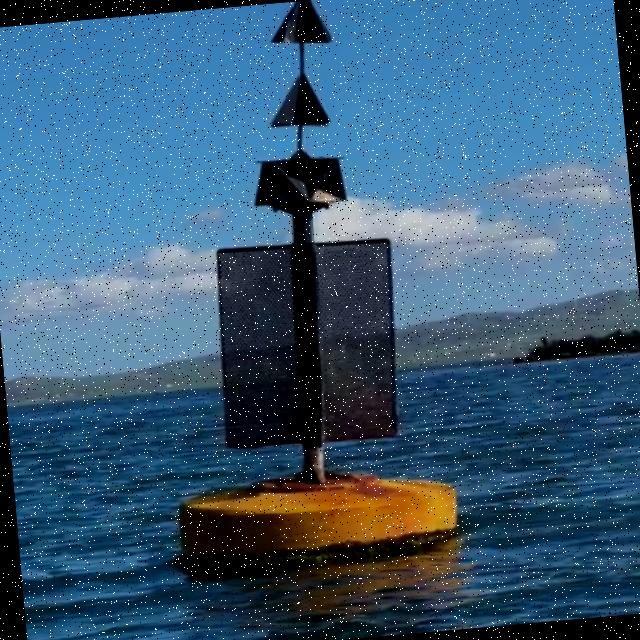marque: (122, 1, 462, 578)
